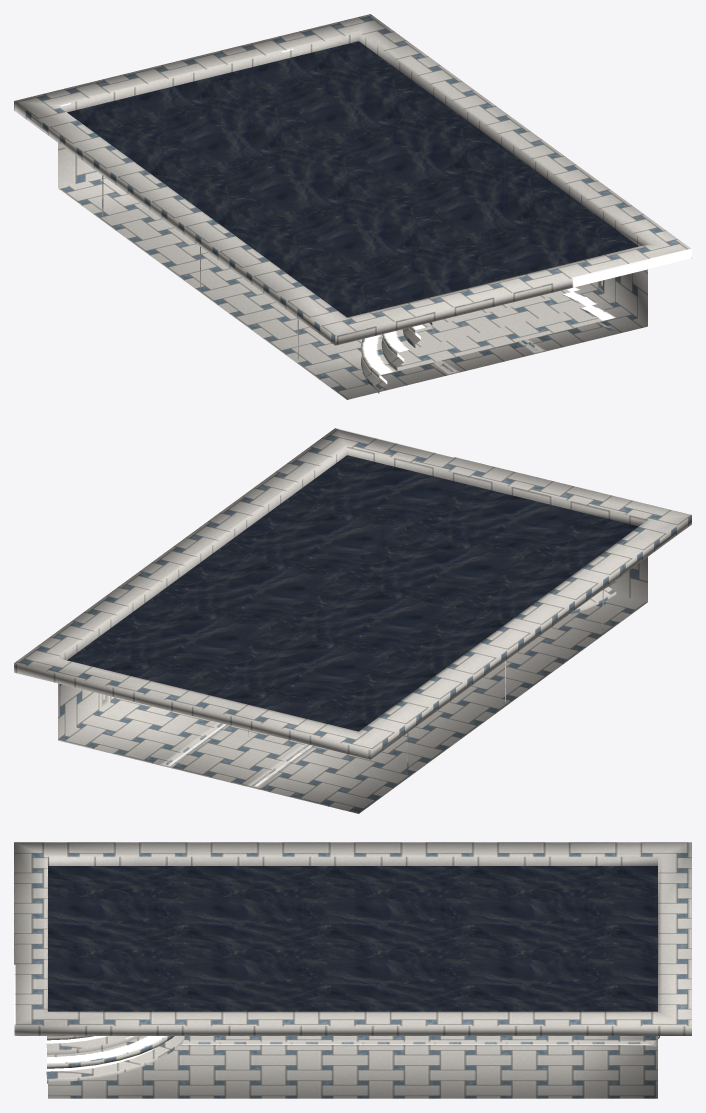
Rendered from pool_adult.glb.
3 views of the same model, one above another, from view 1: azimuth 30°, elevation 25°; view 2: azimuth 150°, elevation 25°; view 3: azimuth 270°, elevation 25° (orthographic). The views are drawn at different scales.
Parts seen in each view (by area): view 1: Box001; view 2: Box001; view 3: Box001.
Part boxes in pixels (x1=…): Box001: x1=14, y1=14, x2=691, y2=399; Box001: x1=14, y1=428, x2=691, y2=813; Box001: x1=14, y1=842, x2=691, y2=1098.
Size of the model in its own units: 1.28 by 0.2885 by 2.
Materials: 1 (1 with a texture image).
